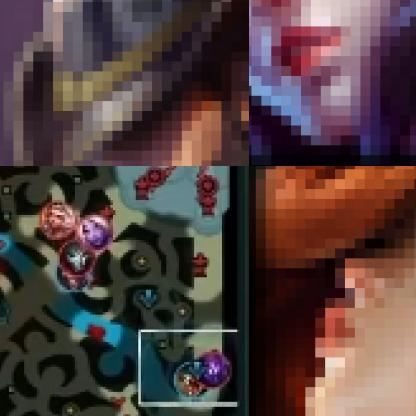Ahri: (249, 0, 415, 165)
Draven: (54, 258, 92, 292)
Jhin: (57, 241, 96, 275)
Malzahar: (194, 349, 235, 390)
Miss Fortune: (249, 166, 415, 415)
Qiyana: (40, 200, 78, 239)
Renekton: (173, 359, 211, 399)
Soraka: (76, 213, 115, 250)
Twisted Fate: (0, 0, 248, 165)
